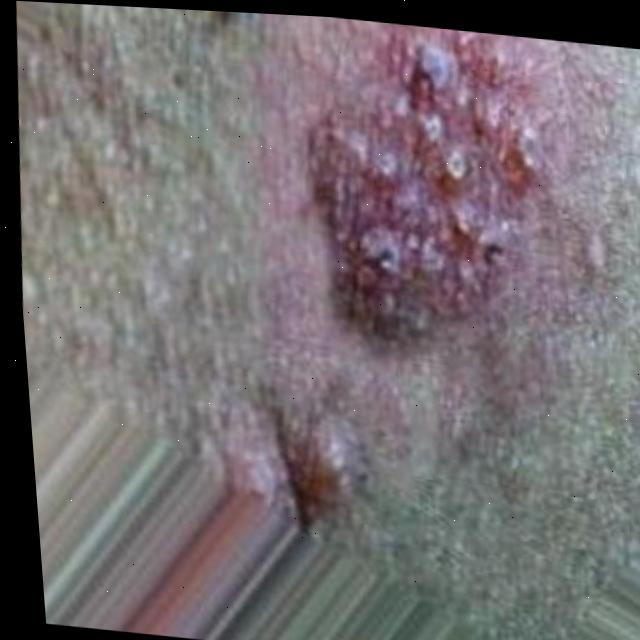Shingles: (301, 40, 542, 349)
